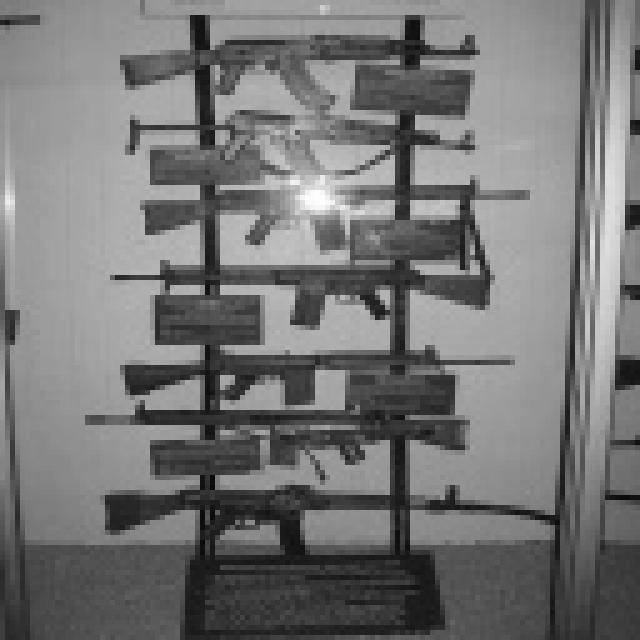Rifle: (68, 453, 573, 589), (114, 0, 503, 119), (99, 242, 522, 349), (104, 96, 503, 194), (102, 182, 534, 260), (78, 340, 514, 408), (134, 418, 478, 484), (66, 389, 464, 443)
